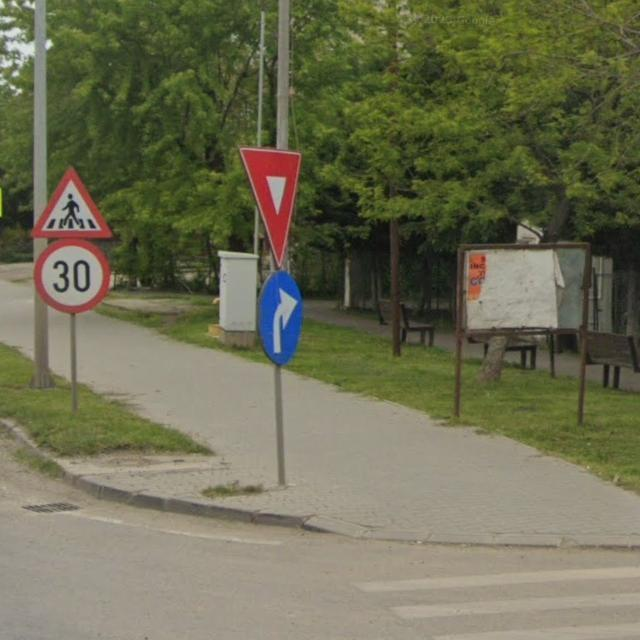forb_speed_over_30: (32, 237, 109, 317)
prio_give_way: (238, 144, 303, 271)
warn_crosswalk: (31, 165, 111, 241)
